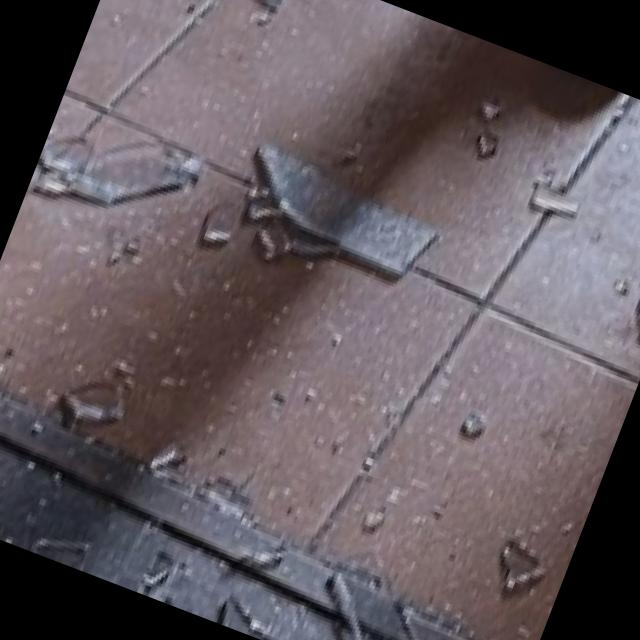PecahanKaca: (199, 125, 452, 321)
